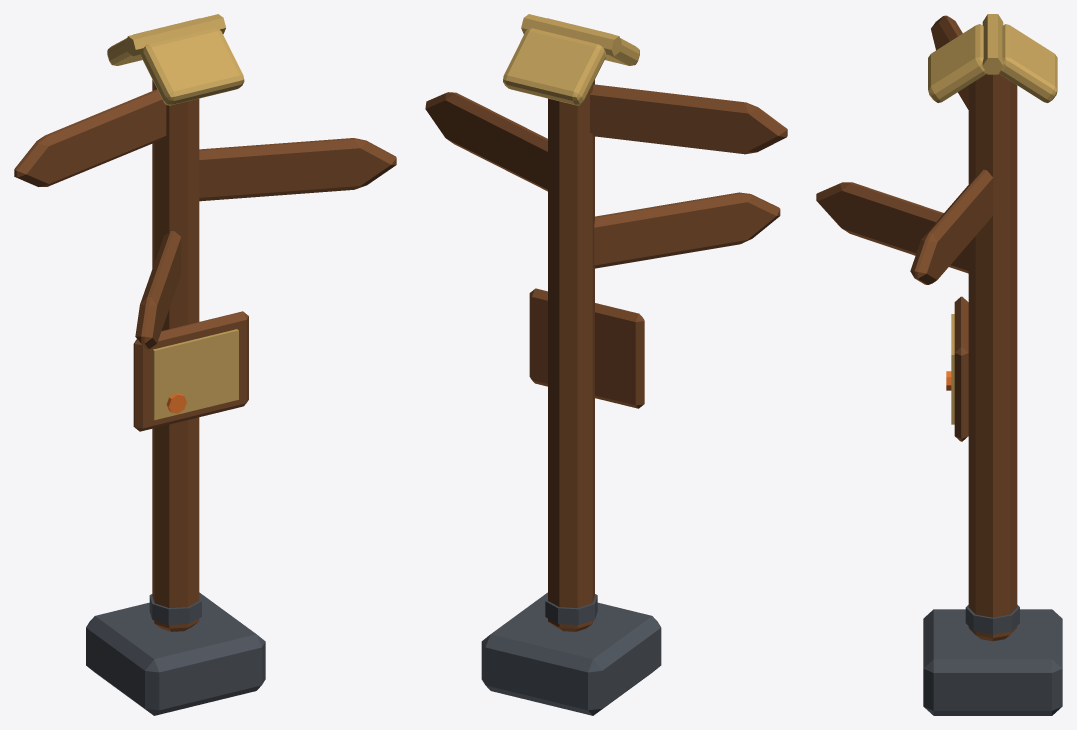
Rendered from quest_signpost.obj.
The picture shows the model from 3 angles, left to right: view 1: azimuth 30°, elevation 25°; view 2: azimuth 150°, elevation 25°; view 3: azimuth 270°, elevation 25°; orthographic projection.
Parts seen in each view (by area): view 1: quest_signpost; view 2: quest_signpost; view 3: quest_signpost.
Part boxes in pixels (x1=…): quest_signpost: x1=14, y1=14, x2=396, y2=715; quest_signpost: x1=425, y1=14, x2=787, y2=715; quest_signpost: x1=816, y1=14, x2=1062, y2=715.
Bounding box in the file's own units: 1.23 × 2.08 × 0.7071.
